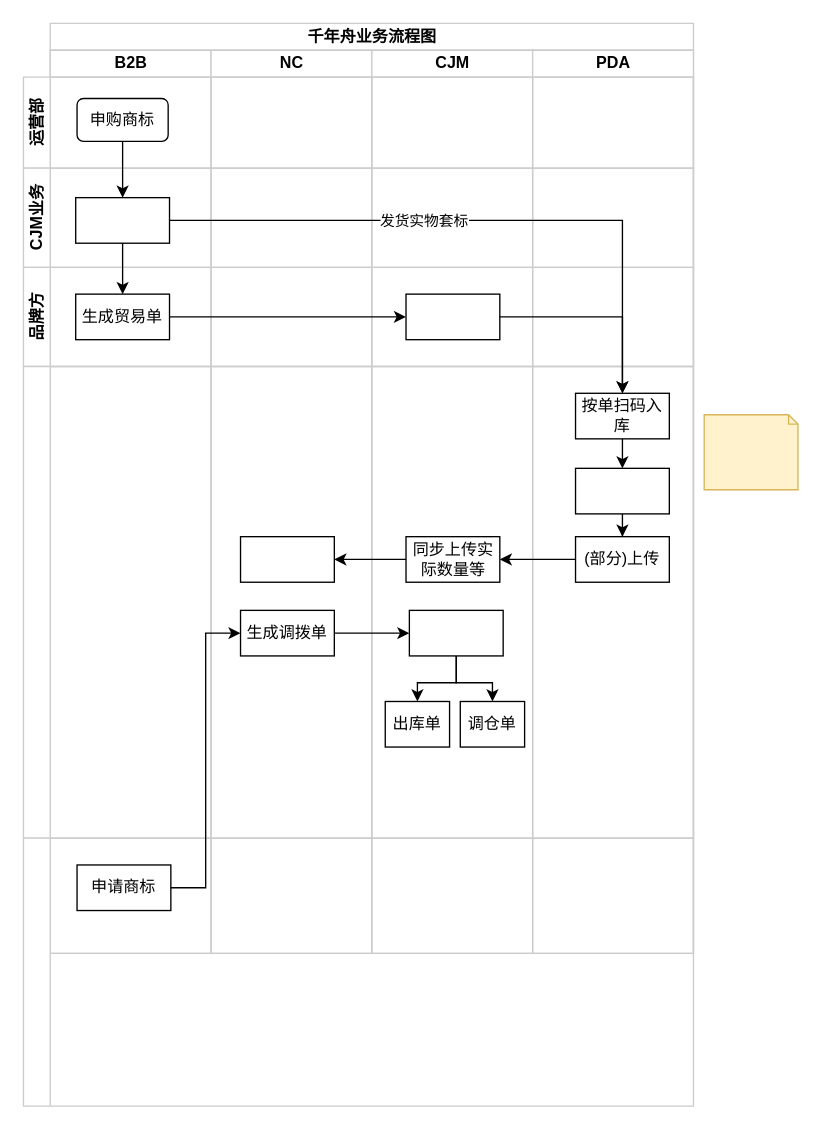
Image size: 821x1130. Some labels were removed from this diagram. The shapes that lost their labels are listed below. From the top down, each one's centre as x and y in pixels, then its label:
At point 122,219: "接单制标".
At point 452,316: "同步为 入库单".
At point 750,451: "单据，商标，嵌套比例，产品都要核对，不能多不能少".
At point 621,490: "选择产品-码关联".
At point 286,558: "采购入库单".
At point 357,601: "临沂商标分仓".
At point 455,632: "同步调拨单".
At point 357,971: "OEM工厂".
